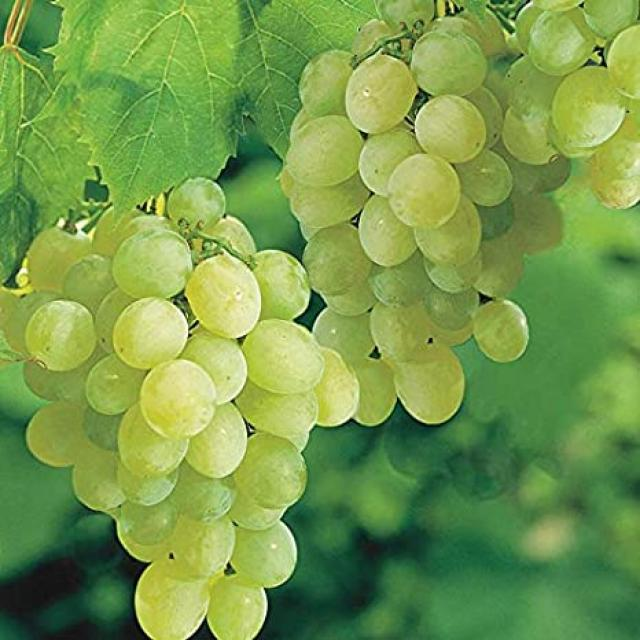grape: (1, 173, 309, 640), (292, 19, 550, 427), (504, 1, 640, 222)
